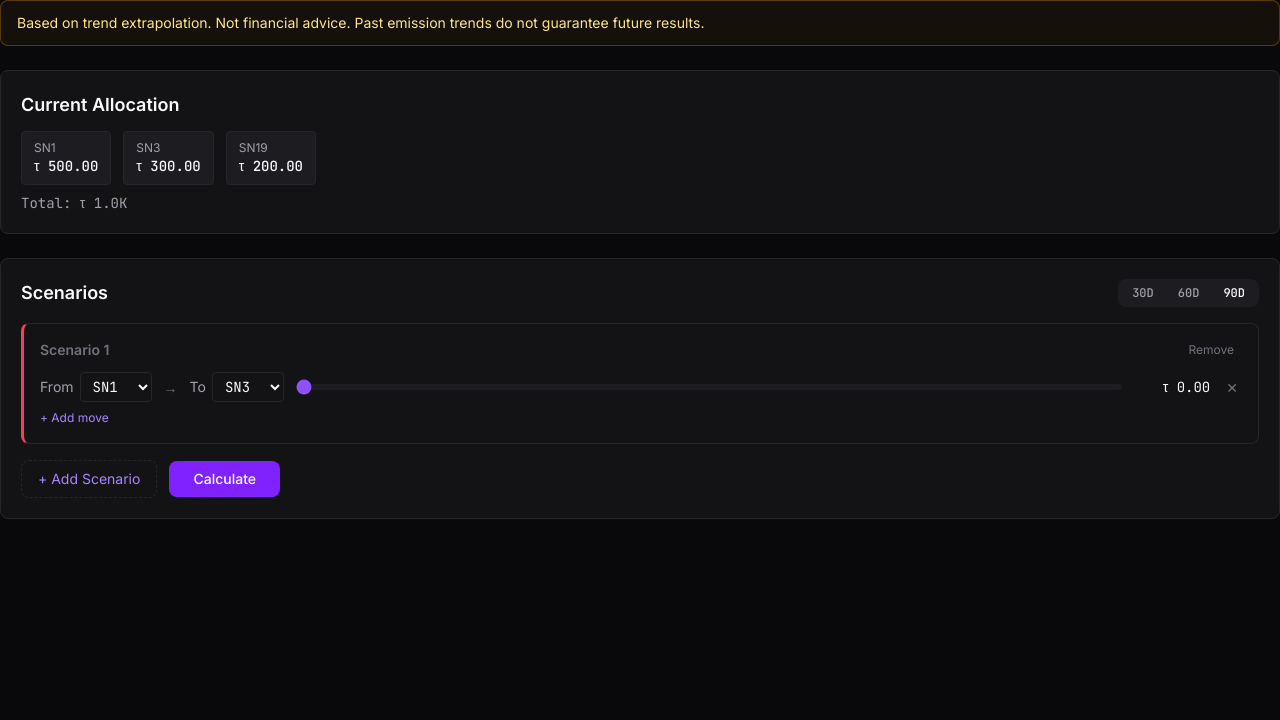
it: ScenarioCalculator › clicking Add Scenario adds another scenario card
The width and height of the screenshot is (1280, 720).
Expected: the number of fields labelled "Scenario 1" is 1, [40, 340, 250, 360]
Click the button "+ Add Scenario" at (89, 479), box [21, 460, 157, 498]
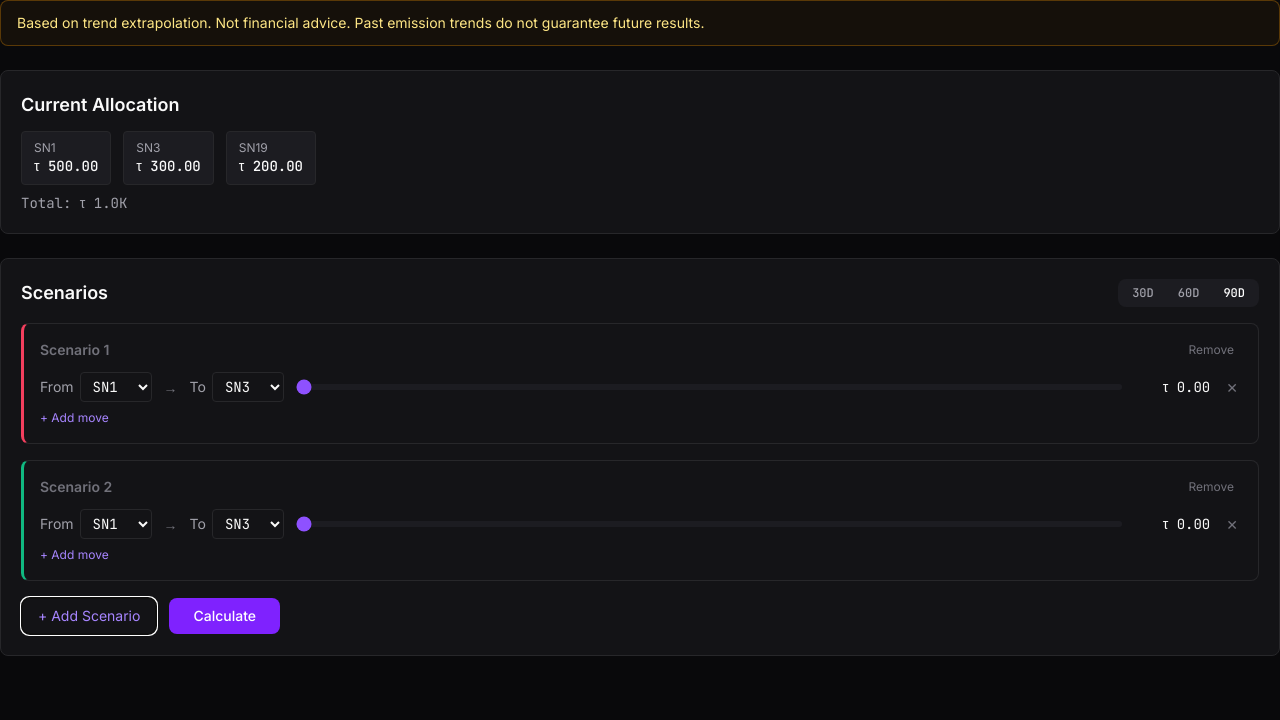
Now the number of fields labelled "Scenario 1" is 2, box [40, 340, 250, 360]; [40, 477, 250, 497]
Click the button "+ Add Scenario" at (89, 616), box [21, 597, 157, 635]
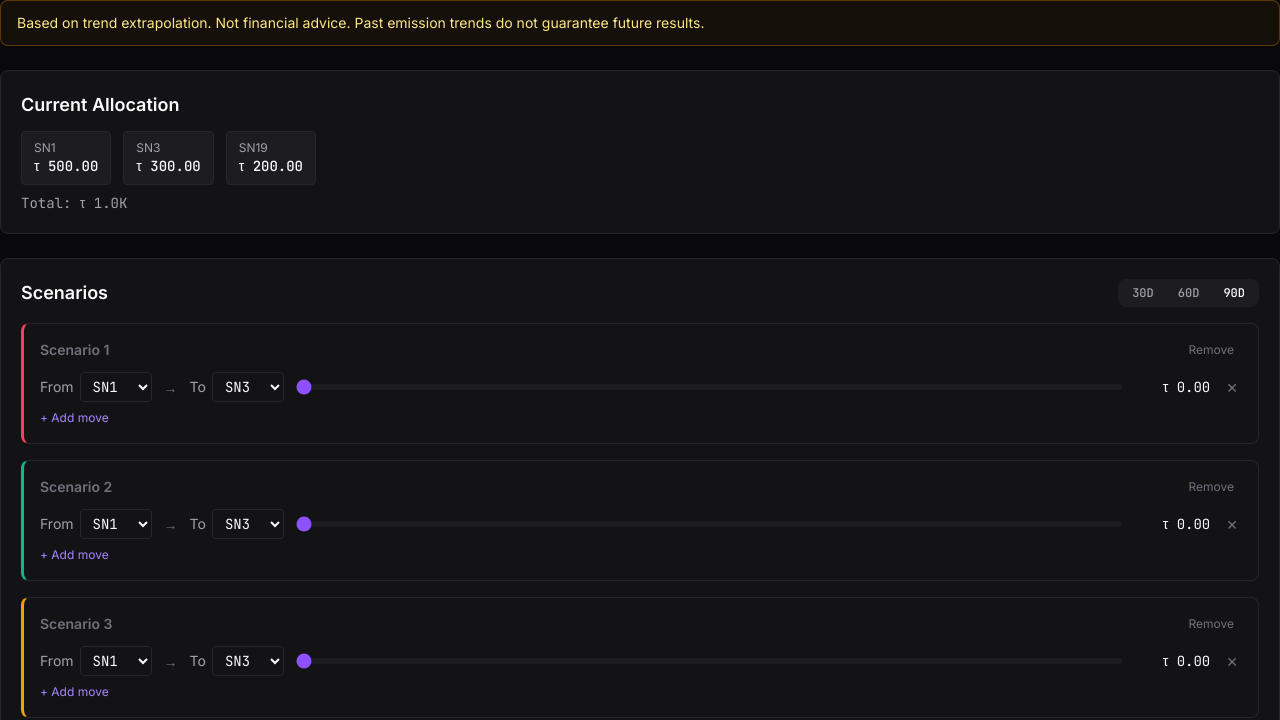
Now the number of fields labelled "Scenario 1" is 3, box [40, 340, 250, 360]; [40, 477, 250, 497]; [40, 614, 250, 634]
